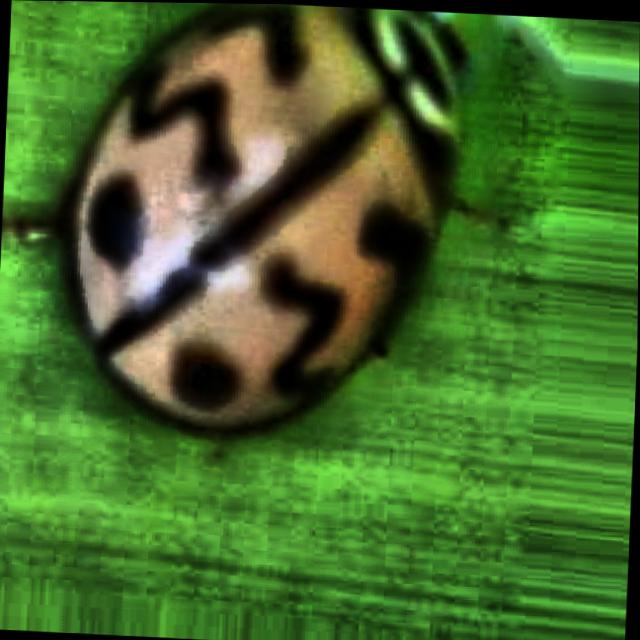Asian-Lady-beetle: (0, 0, 591, 527)
